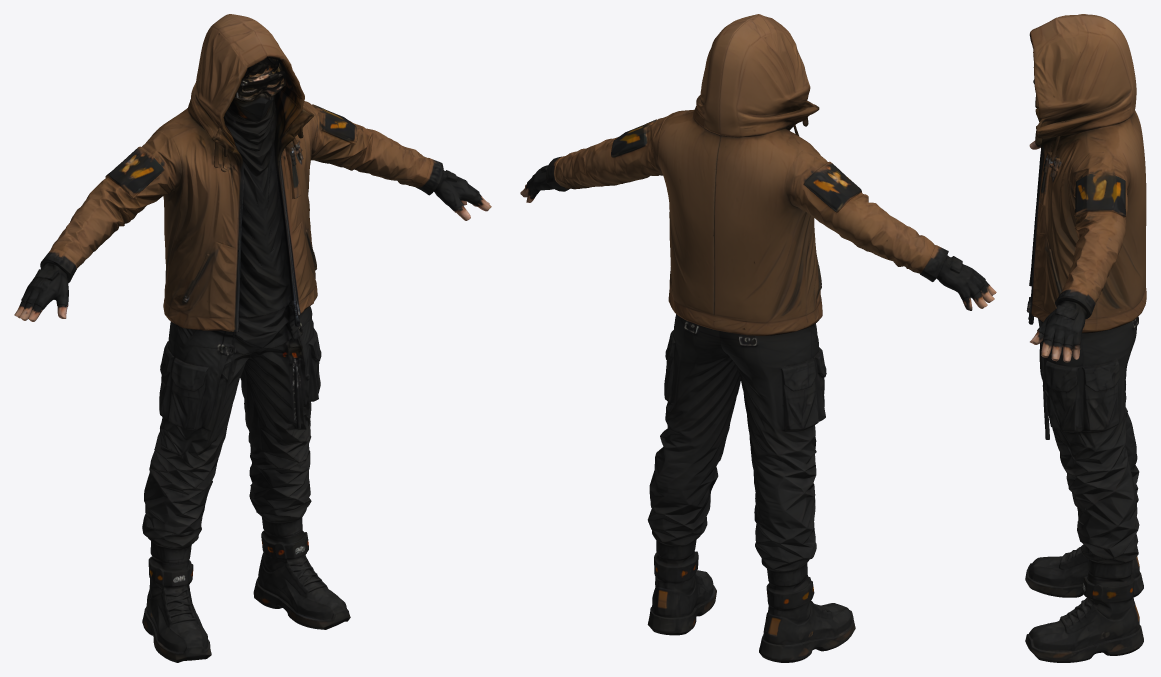
The picture shows the model from 3 angles, left to right: view 1: azimuth 30°, elevation 25°; view 2: azimuth 150°, elevation 25°; view 3: azimuth 270°, elevation 25°; orthographic projection.
Visible parts, largest first — view 1: material; view 2: material; view 3: material.
Part boxes in pixels (x1,y1,x2,y2): material: (14,14,491,662); material: (520,14,996,662); material: (1025,14,1146,662).
Size of the model in its own units: 0.926 by 1.15 by 0.209.
Materials: 1 (1 with a texture image).
